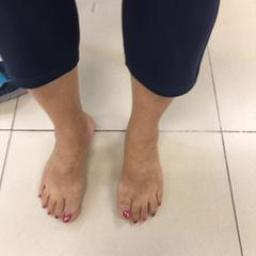Dorsal View -Both Feet-: (14, 97, 184, 238)
